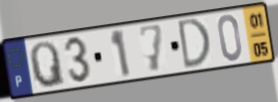0: (216, 13, 244, 63)
1: (109, 28, 132, 80)
3: (63, 35, 93, 86)
7: (137, 22, 165, 76)
D: (177, 16, 213, 72)
Q: (28, 40, 68, 90)
